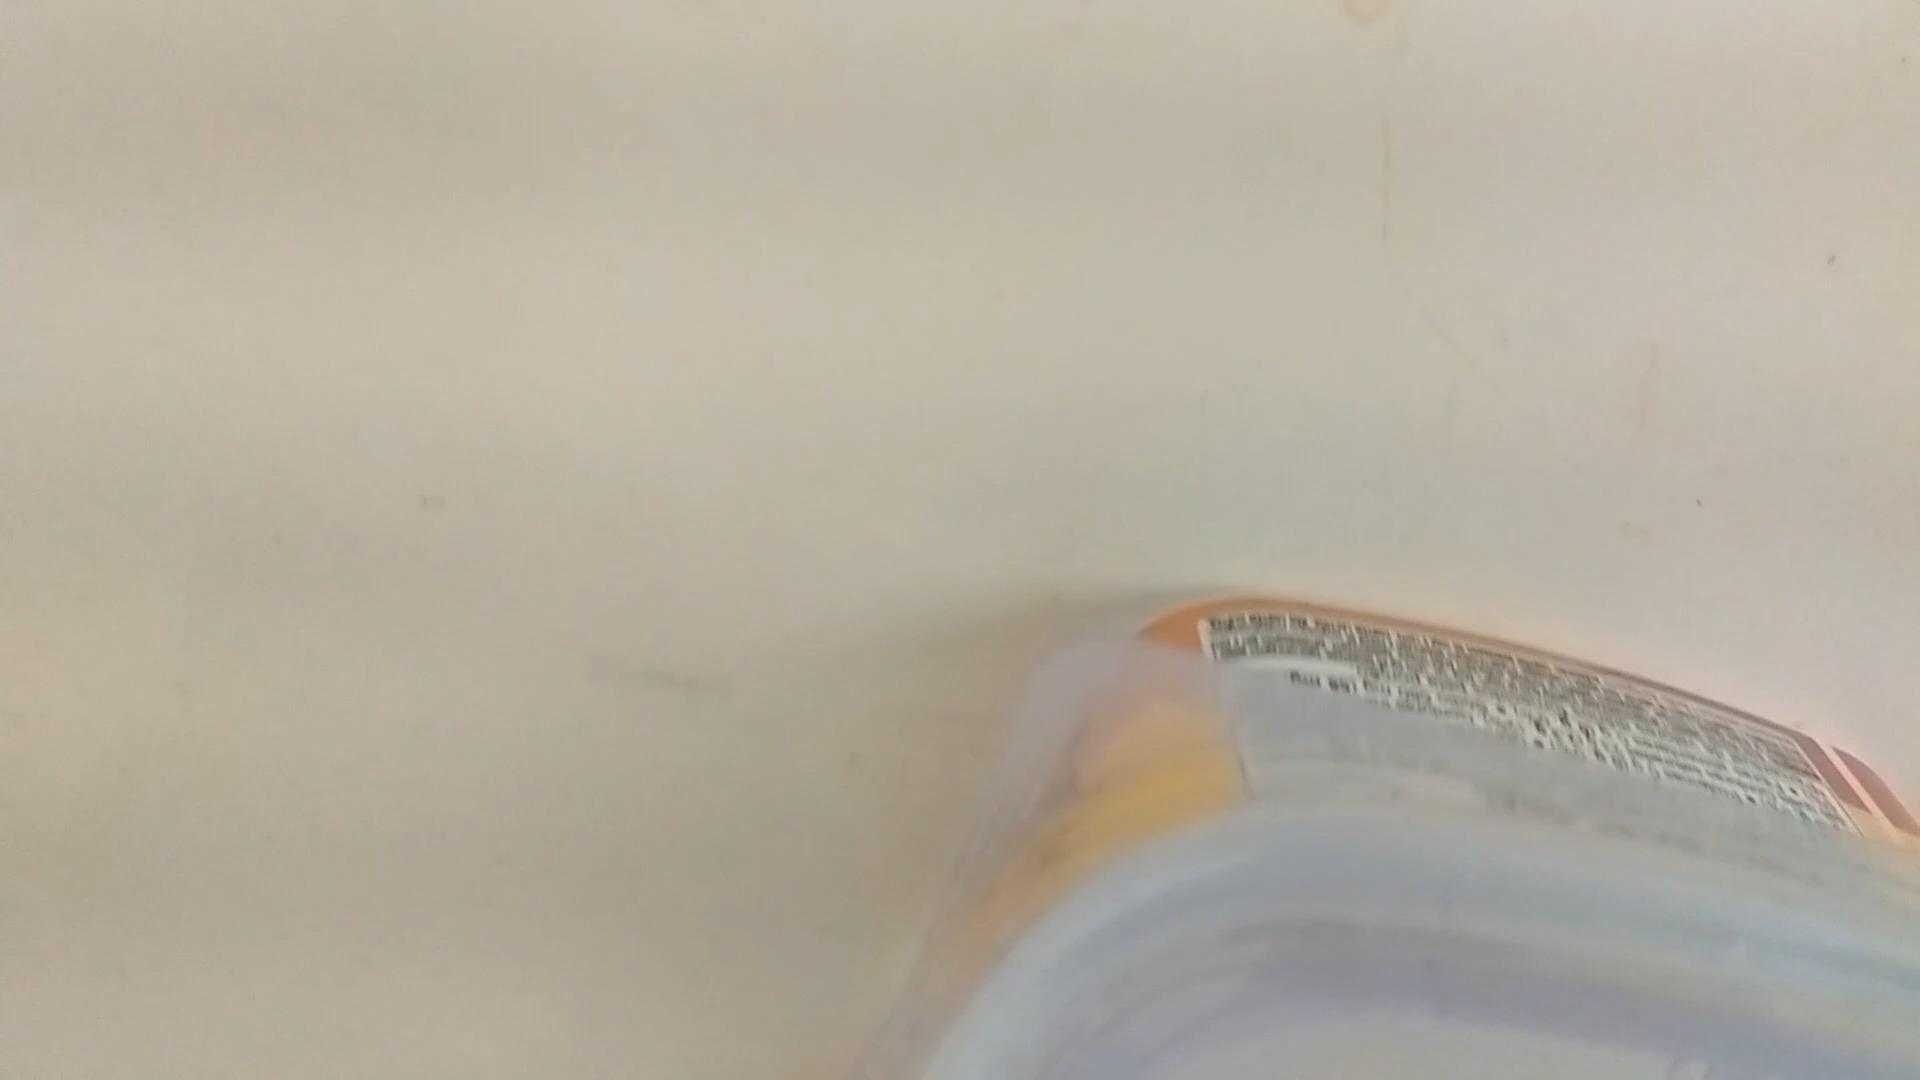butter: (847, 601, 1920, 1073)
